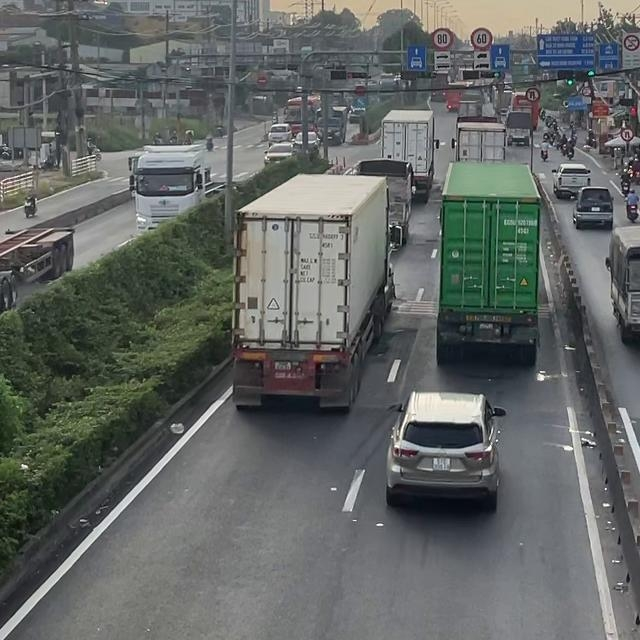bus: (282, 95, 319, 136), (510, 93, 539, 130)
car: (385, 390, 506, 509), (572, 186, 613, 229), (551, 163, 591, 199), (263, 142, 294, 164), (292, 130, 321, 149), (266, 123, 292, 143)
motorcycle: (624, 197, 638, 222), (23, 202, 38, 218), (620, 181, 630, 196), (540, 148, 548, 161)
truck: (230, 172, 395, 412), (435, 160, 542, 365), (128, 147, 209, 230), (342, 158, 413, 250), (0, 226, 75, 313), (381, 108, 439, 203), (604, 223, 639, 343), (452, 115, 506, 161), (313, 105, 348, 145), (505, 111, 532, 146)
